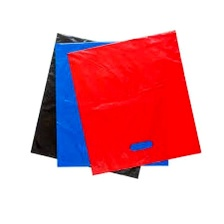plastic_bag: (63, 28, 207, 176), (28, 29, 148, 181), (49, 37, 174, 172)
